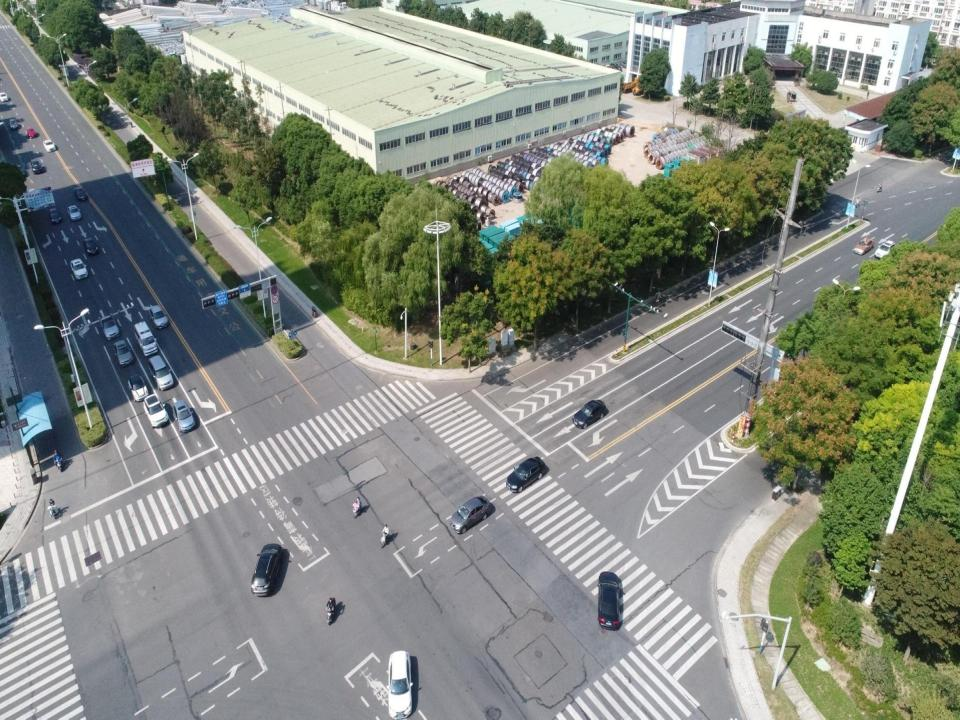car: (248, 541, 282, 597), (450, 492, 495, 533), (504, 455, 547, 492), (389, 650, 412, 719), (597, 571, 621, 629), (570, 400, 607, 428), (143, 393, 169, 429), (172, 398, 196, 433), (127, 370, 149, 402), (148, 304, 169, 329), (113, 340, 133, 366), (99, 314, 119, 340), (874, 238, 896, 260), (69, 256, 88, 280), (852, 237, 875, 256), (83, 234, 99, 255), (67, 202, 83, 222), (47, 206, 61, 225), (74, 184, 88, 202), (43, 137, 57, 154), (30, 156, 43, 174), (8, 118, 18, 130), (26, 126, 35, 138), (0, 90, 8, 102)
truck: (134, 319, 158, 357)
van: (147, 351, 174, 392), (787, 88, 797, 103)
